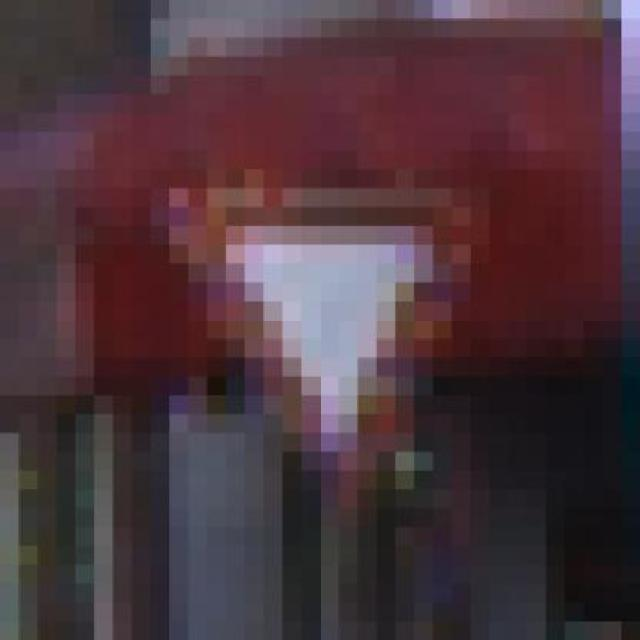Give Way: (94, 112, 566, 565)
